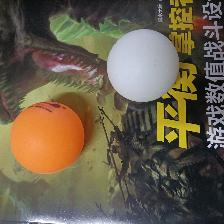WhiteBall: (106, 28, 179, 102)
YellowBall: (8, 101, 84, 173)
